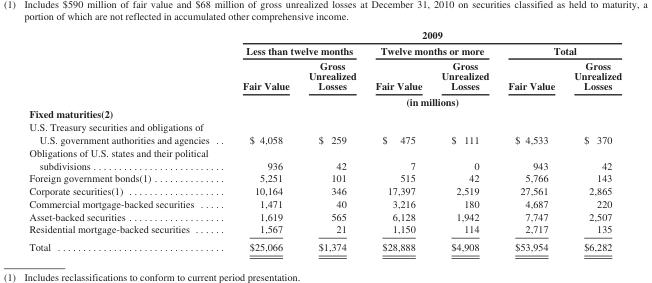table: (28, 28, 621, 252)
table column: (28, 28, 225, 252), (225, 28, 298, 252), (298, 28, 365, 252), (365, 28, 431, 252), (431, 28, 497, 252), (497, 28, 563, 252), (563, 28, 621, 252)
table column header: (28, 28, 621, 107)
table projected row header: (28, 107, 621, 120)
table row: (28, 57, 621, 93), (28, 145, 621, 171), (28, 120, 621, 145), (28, 42, 621, 57), (28, 222, 621, 237), (28, 237, 621, 252), (28, 28, 621, 42), (28, 93, 621, 107), (28, 107, 621, 120), (28, 171, 621, 184), (28, 196, 621, 209), (28, 209, 621, 222), (28, 184, 621, 196)
table spanning cell: (225, 28, 621, 42), (225, 93, 621, 107), (225, 42, 365, 57), (365, 42, 497, 57), (497, 42, 621, 57)
